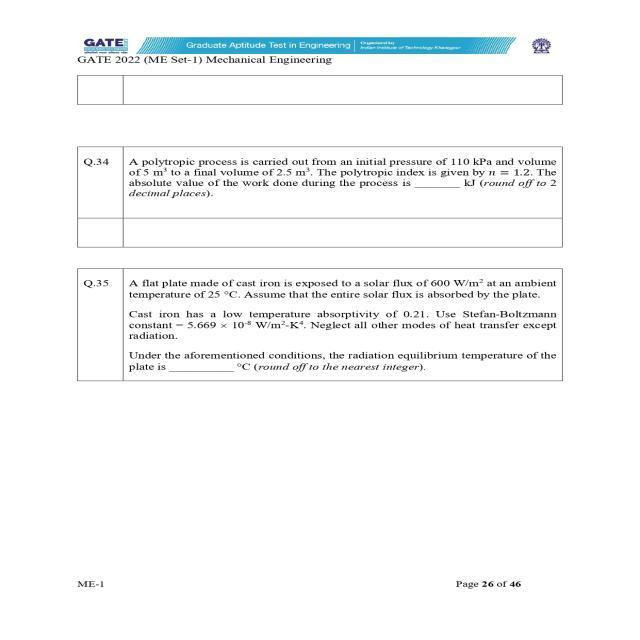Question_Answer_Block: (43, 266, 615, 402), (43, 147, 615, 219)
Question_Block: (43, 266, 615, 402), (43, 147, 615, 219)
Question_Paper_Area: (43, 67, 615, 500)
